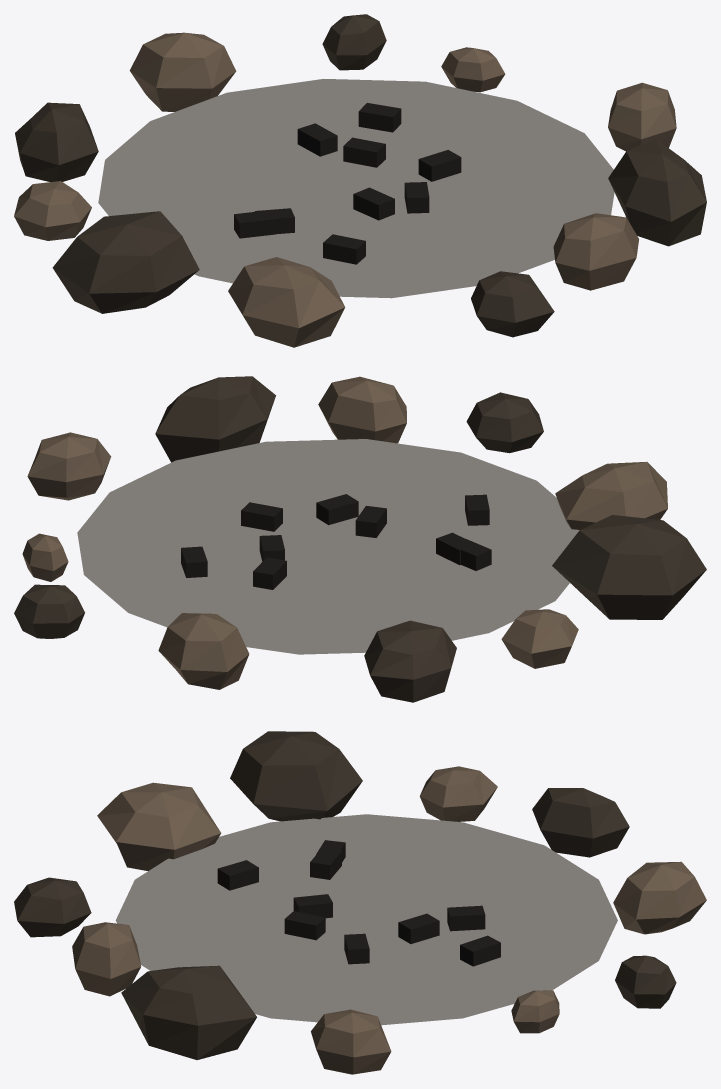
The model's file is lake-ochag-shallows-0.glb.
The picture shows the model from 3 angles, top to bottom: view 1: azimuth 30°, elevation 25°; view 2: azimuth 150°, elevation 25°; view 3: azimuth 270°, elevation 25°; orthographic projection. The views are drawn at different scales.
Parts seen in each view (by area): view 1: lake-ochag-shallows-0; view 2: lake-ochag-shallows-0; view 3: lake-ochag-shallows-0.
Part boxes in pixels (x1,y1,x2,y2): lake-ochag-shallows-0: (14,14,706,347); lake-ochag-shallows-0: (14,376,706,702); lake-ochag-shallows-0: (14,731,706,1074).
Bounding box in the file's own units: 0.9533 × 0.1333 × 0.9381.
